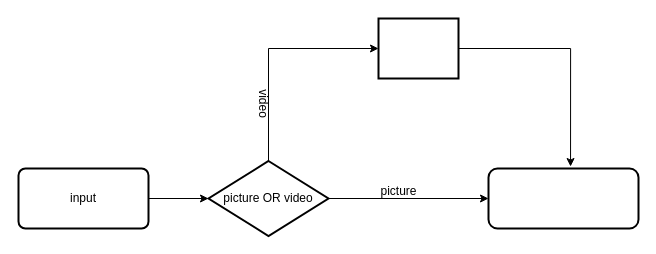
Image size: 656x254. Some labels were removed from this diagram. The shapes that lost their labels are listed below. From the top down, each one's box as (x1, y1, x2, y2) in pixels, then its label:
(377, 17, 459, 79): OCR
(487, 167, 639, 229): Processing
